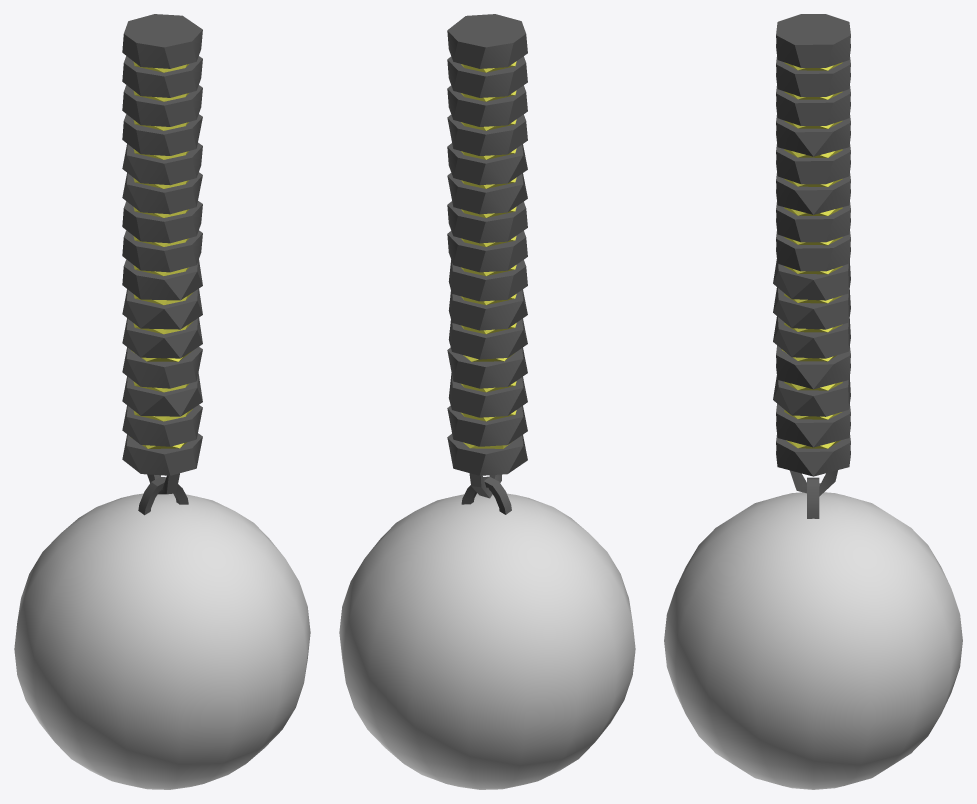
The model's file is bola de demolicion low poly.fbx.
3 renders of one model, left to right at view 1: azimuth 30°, elevation 25°; view 2: azimuth 150°, elevation 25°; view 3: azimuth 270°, elevation 25°, orthographic.
Parts seen in each view (by area): view 1: Sphere, Cube.002, AnclaSphera; view 2: Sphere, Cube.002, AnclaSphera; view 3: Sphere, Cube.002, AnclaSphera.
Part boxes in pixels (x1,y1,x2,y2): Sphere: (14, 493, 310, 789); Cube.002: (122, 14, 202, 494); AnclaSphera: (138, 477, 188, 515); Sphere: (339, 493, 635, 789); Cube.002: (447, 14, 527, 498); AnclaSphera: (461, 476, 511, 514); Sphere: (664, 492, 962, 789); Cube.002: (773, 14, 850, 496); AnclaSphera: (807, 477, 819, 518).
Size of the model in its own units: 467 by 1286 by 467.
